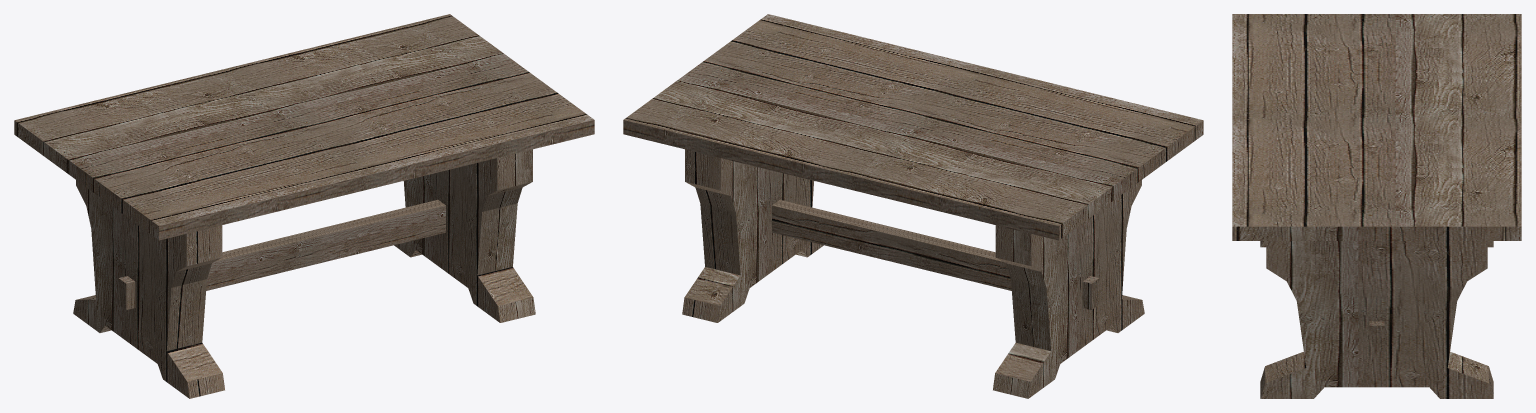
File: MedievalTable.FBX
3 views of the same model, side by side, from view 1: azimuth 30°, elevation 25°; view 2: azimuth 150°, elevation 25°; view 3: azimuth 270°, elevation 25° (orthographic).
Visible parts, largest first — view 1: Box001; view 2: Box001; view 3: Box001.
Boxes of the visible parts, box(x1,y1,x2,y2) form: Box001: box(14, 14, 594, 398); Box001: box(623, 14, 1203, 398); Box001: box(1232, 14, 1521, 398).
Bounding box in the file's own units: 11.28 × 4.8 × 6.49.
1 material, 1 textured.
